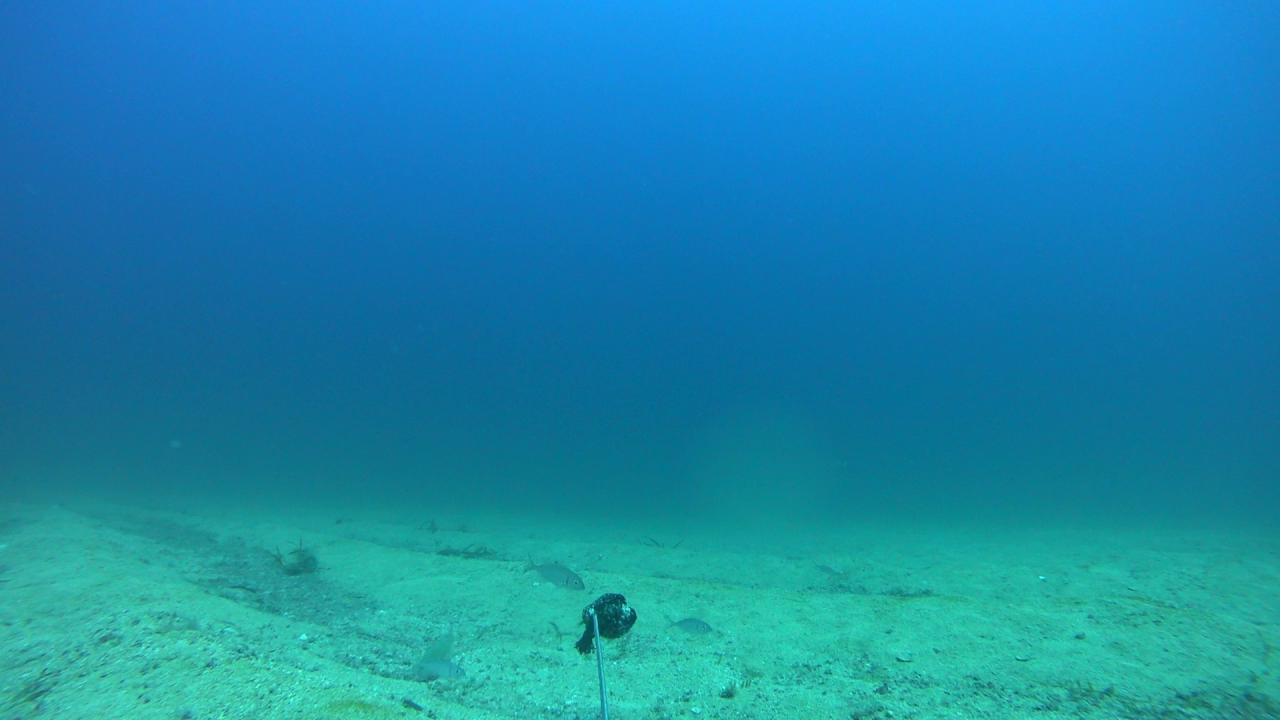pagellus: (522, 554, 585, 593), (414, 660, 468, 684), (664, 615, 710, 634)
